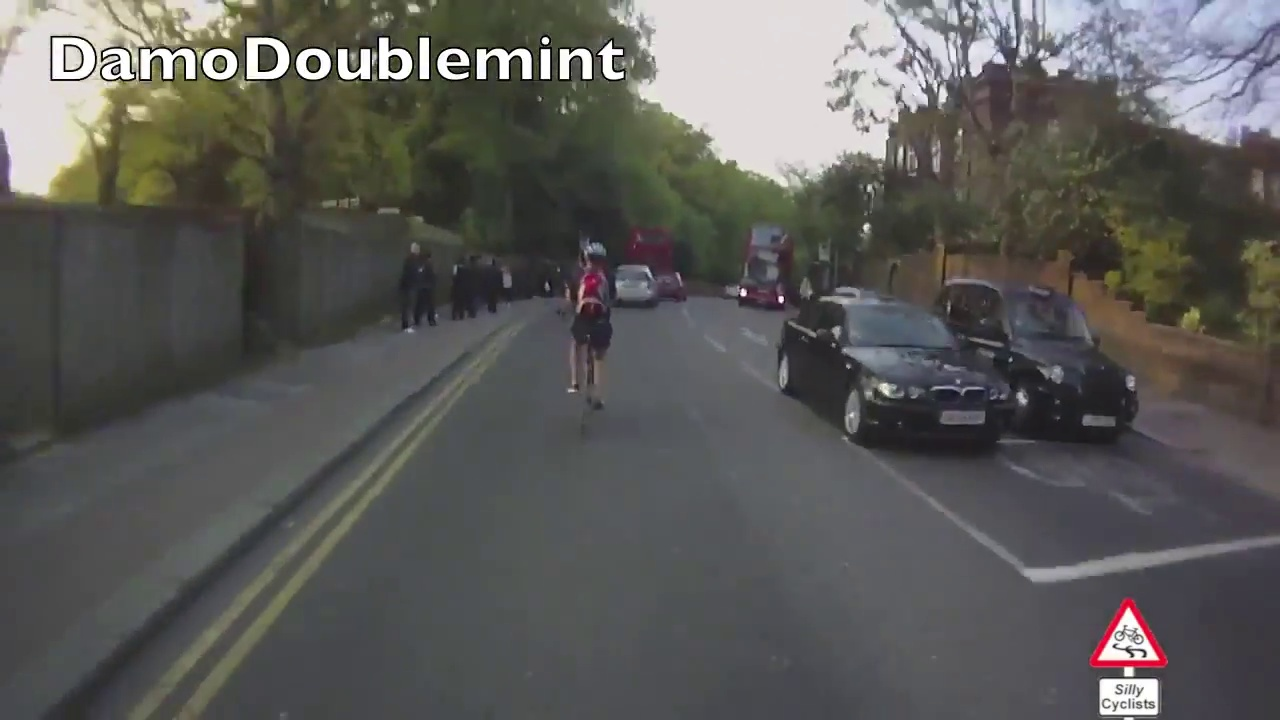cyclist_back: (564, 241, 619, 415)
